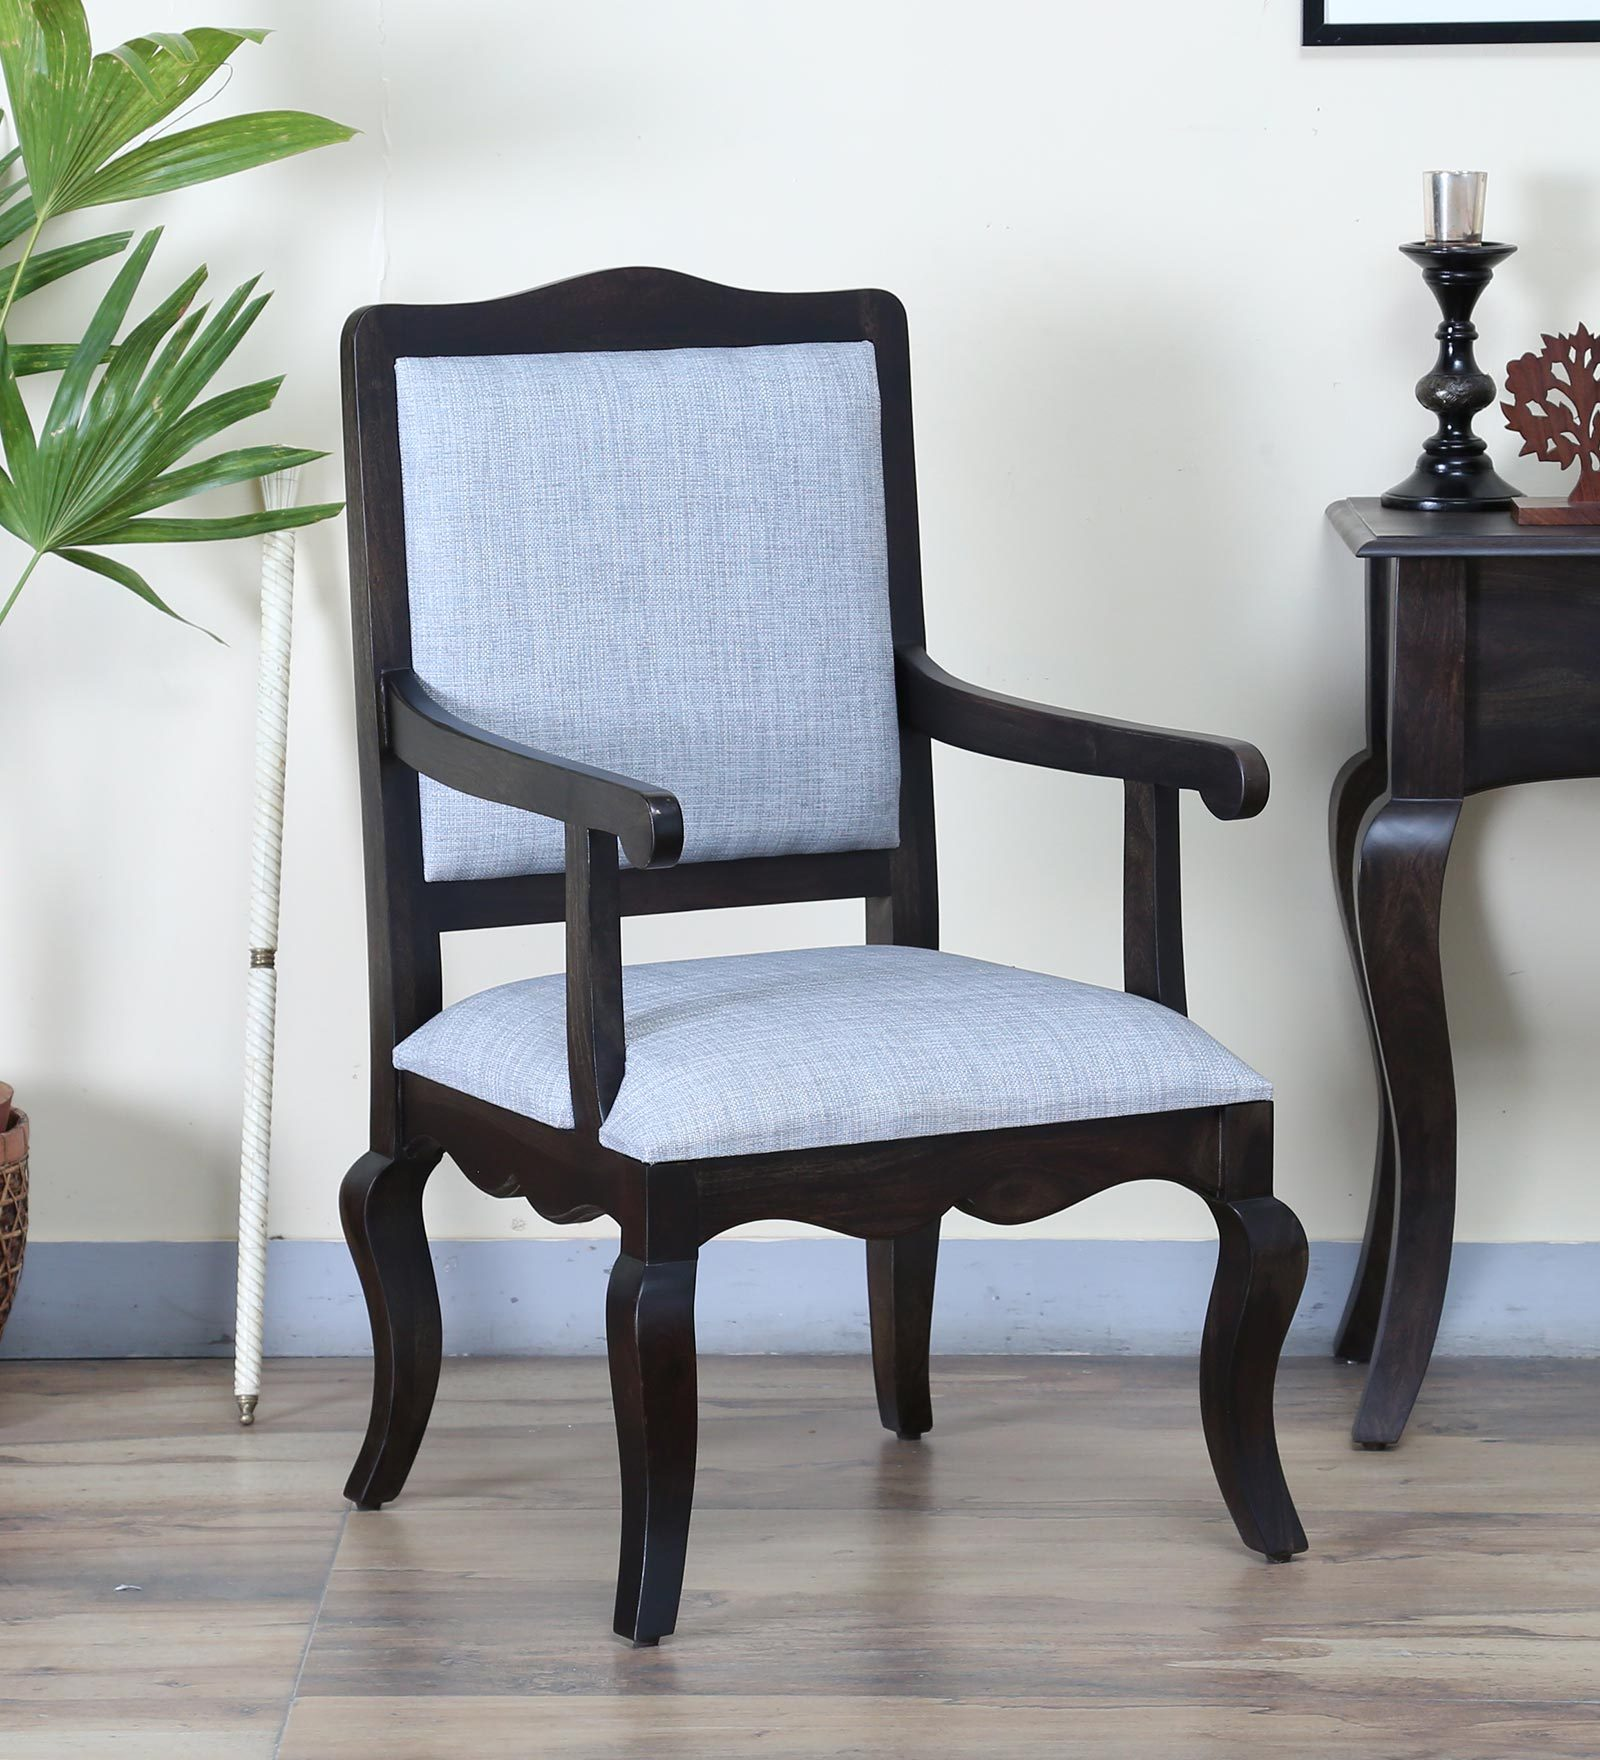Anne Arm Chair in Warm Chestnut Finish by Amberville: (300, 261, 1338, 1657)
